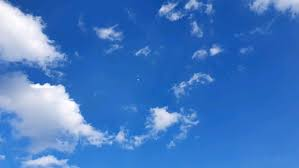sky: (1, 2, 299, 167)
